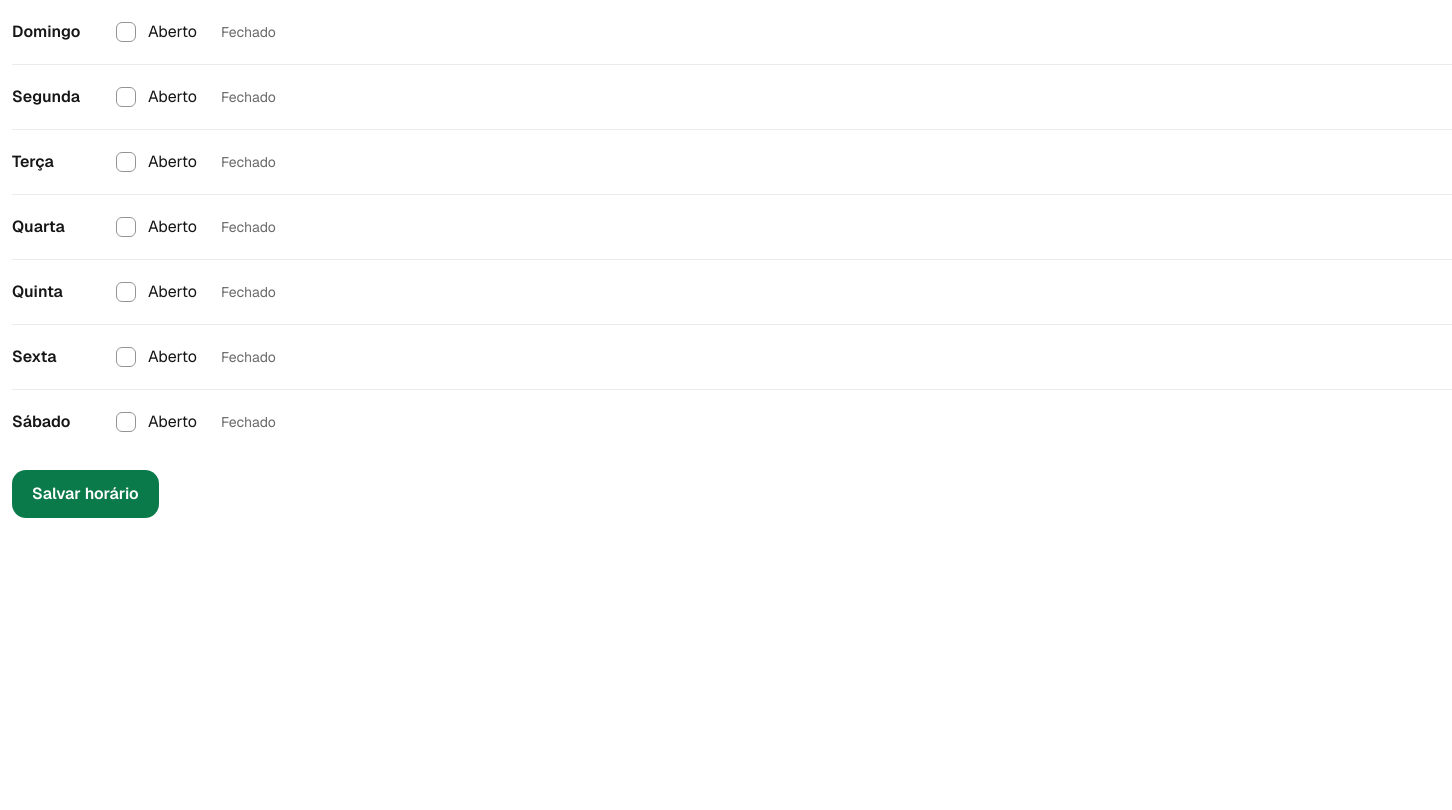
Scenario: HoursEditor › shows the server error and does not refresh
This screenshot has width=1452, height=810.
Click the button "Salvar horário" at point(85, 494), box [12,470,159,518]
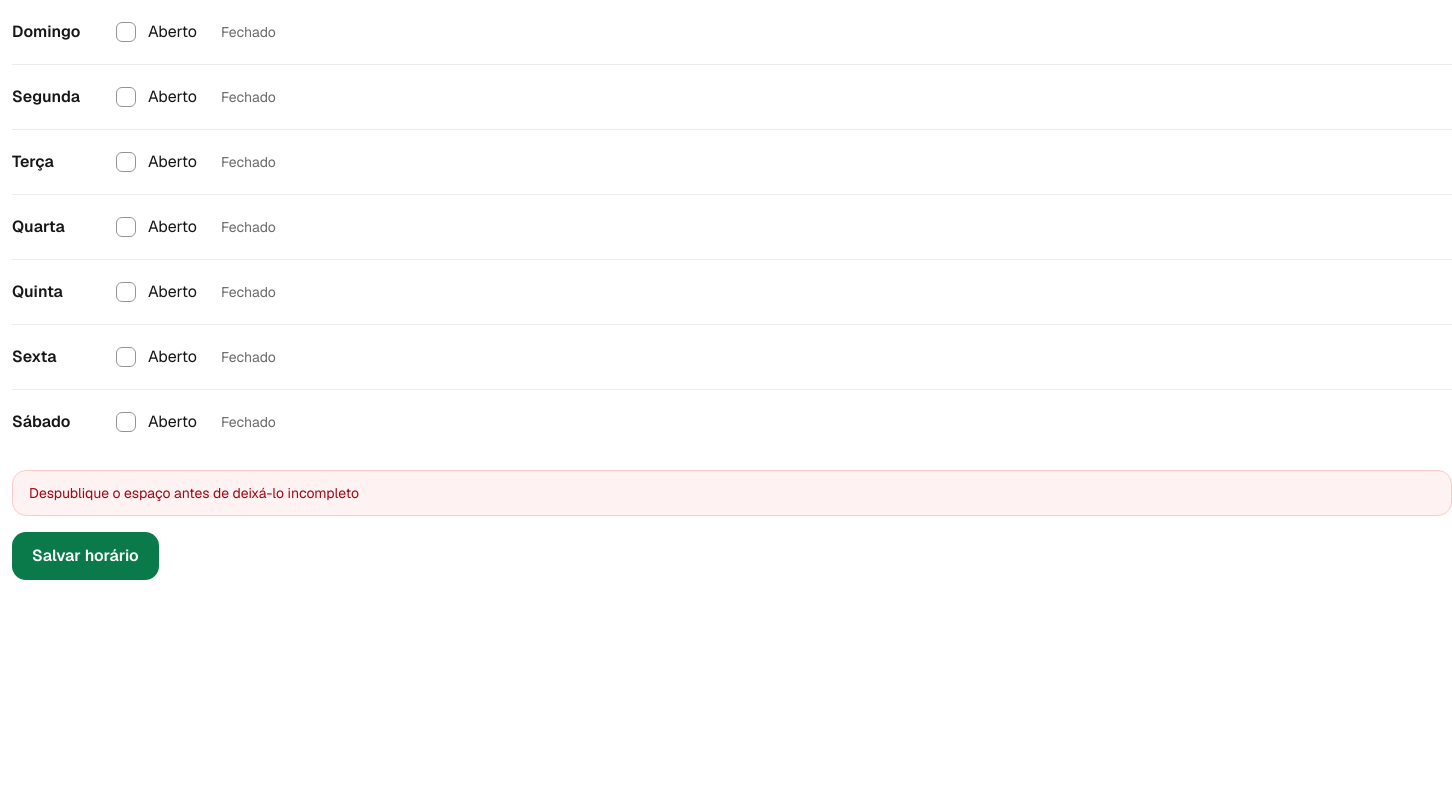
Now the message reads "Despublique o espaço antes de deixá-lo incompleto", box [29,484,359,502]
